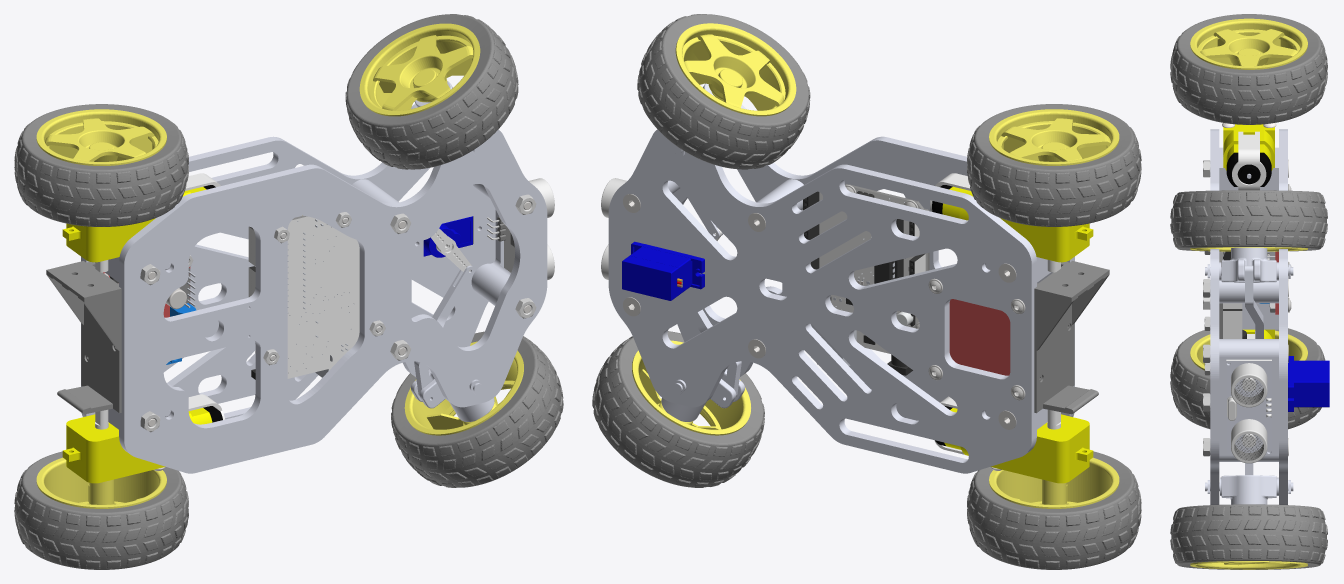
Rendered from robot_car.glb.
3 renders of one model, left to right at view 1: azimuth 30°, elevation 25°; view 2: azimuth 150°, elevation 25°; view 3: azimuth 270°, elevation 25°, orthographic. The views are drawn at different scales.
Parts seen in each view (by area): view 1: Node6, Node2, Node22, Node25, Node15, Node13, Node18, Node12, Node9, Node11; view 2: Node6, Node2, Node25, Node22, Node13, Node18, Node31, Node15, Node9, Node5, Node26, Node20; view 3: Node2, Node6, Node25, Node22, Node11, Node9, Node15, Node32, Node18, Node12, Node19, Node3 (+1 smaller).
Boxes of the visible parts, x1,y1,x2,y2 form: Node6: (81, 81, 547, 473); Node2: (14, 14, 563, 569); Node22: (36, 23, 523, 508); Node25: (14, 23, 563, 569); Node15: (95, 173, 514, 429); Node13: (46, 216, 307, 414); Node18: (62, 187, 212, 483); Node12: (104, 194, 536, 432); Node9: (423, 216, 472, 257); Node11: (487, 178, 554, 279); Node6: (608, 83, 1074, 473); Node2: (592, 14, 1141, 569); Node25: (592, 24, 1141, 569); Node22: (632, 23, 1119, 508); Node13: (681, 184, 1109, 414); Node18: (942, 186, 1093, 483); Node31: (949, 299, 1010, 375); Node15: (714, 173, 1060, 454); Node9: (622, 241, 704, 300); Node5: (803, 191, 924, 375); Node26: (623, 194, 1016, 429); Node20: (845, 185, 1025, 400); Node2: (1170, 14, 1327, 569); Node6: (1205, 129, 1293, 504); Node25: (1171, 40, 1327, 563); Node22: (1190, 18, 1307, 569); Node11: (1227, 363, 1271, 463); Node9: (1288, 356, 1329, 411); Node15: (1223, 131, 1271, 360); Node32: (1226, 361, 1271, 454); Node18: (1223, 124, 1274, 338); Node12: (1203, 160, 1275, 456); Node19: (1226, 152, 1271, 186); Node3: (1234, 378, 1263, 460).
Bounding box in the file's own units: 239 × 194 × 69.66.
